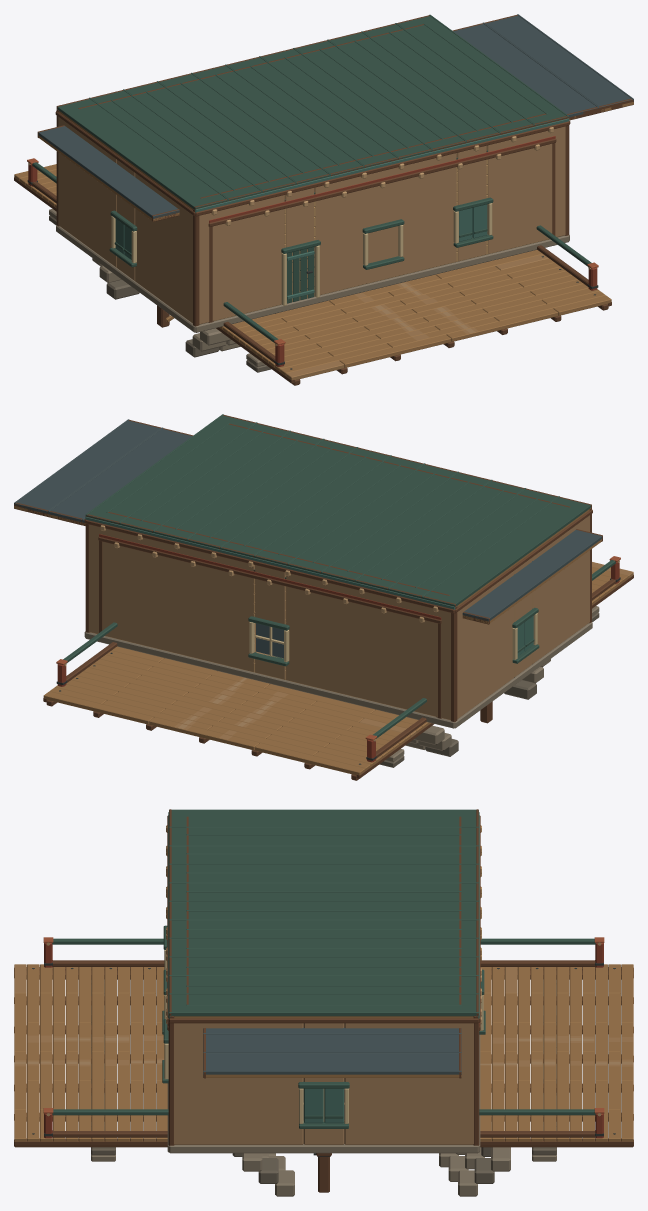
Rendered from farm_parts.glb.
3 renders of one model, top to bottom at view 1: azimuth 30°, elevation 25°; view 2: azimuth 150°, elevation 25°; view 3: azimuth 270°, elevation 25°, orthographic. The views are drawn at different scales.
Parts seen in each view (by area): view 1: House1, CenterBridge, House6, WeighRoof, House7; view 2: House1, CenterBridge, House6, WeighRoof, House7; view 3: House1, CenterBridge, House6, WeighRoof, House7.
Part boxes in pixels (bbox=[...]): House1: bbox=[55, 14, 570, 332]; CenterBridge: bbox=[14, 158, 611, 385]; House6: bbox=[78, 23, 547, 198]; WeighRoof: bbox=[37, 14, 633, 221]; House7: bbox=[208, 136, 556, 329]; House1: bbox=[84, 414, 592, 728]; CenterBridge: bbox=[43, 556, 633, 780]; House6: bbox=[106, 423, 570, 595]; WeighRoof: bbox=[14, 419, 602, 624]; House7: bbox=[98, 534, 441, 724]; House1: bbox=[162, 809, 484, 1153]; CenterBridge: bbox=[14, 937, 633, 1196]; House6: bbox=[186, 816, 461, 1005]; WeighRoof: bbox=[203, 1027, 461, 1078]; House7: bbox=[162, 853, 485, 1137].
Size of the model in its own units: 18 by 6.38 by 18.
